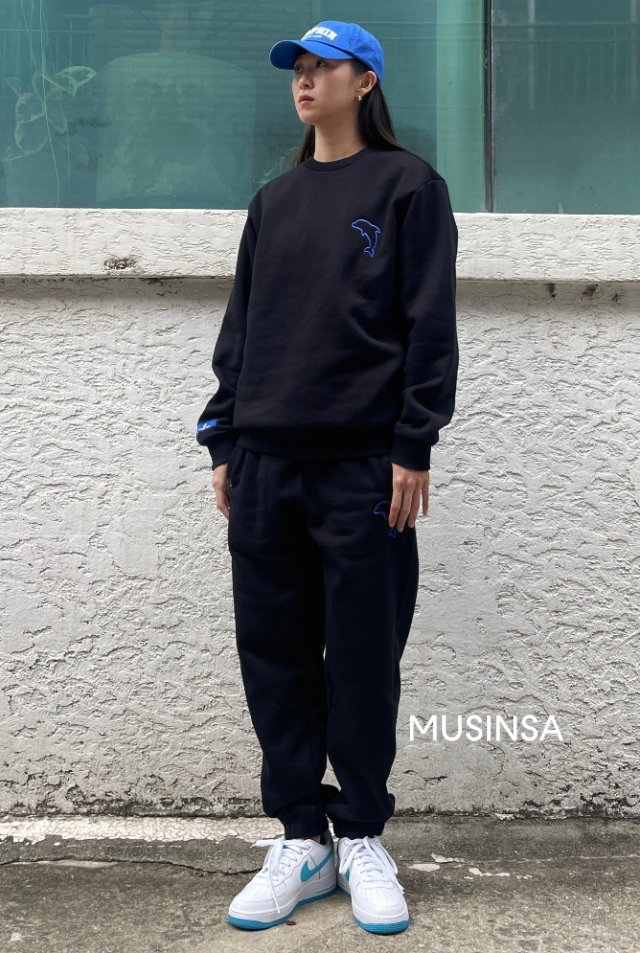Cap: (258, 11, 388, 73)
Pants: (213, 436, 434, 839)
Shoes: (210, 829, 420, 945)
Sweatshirt: (194, 137, 460, 468)
